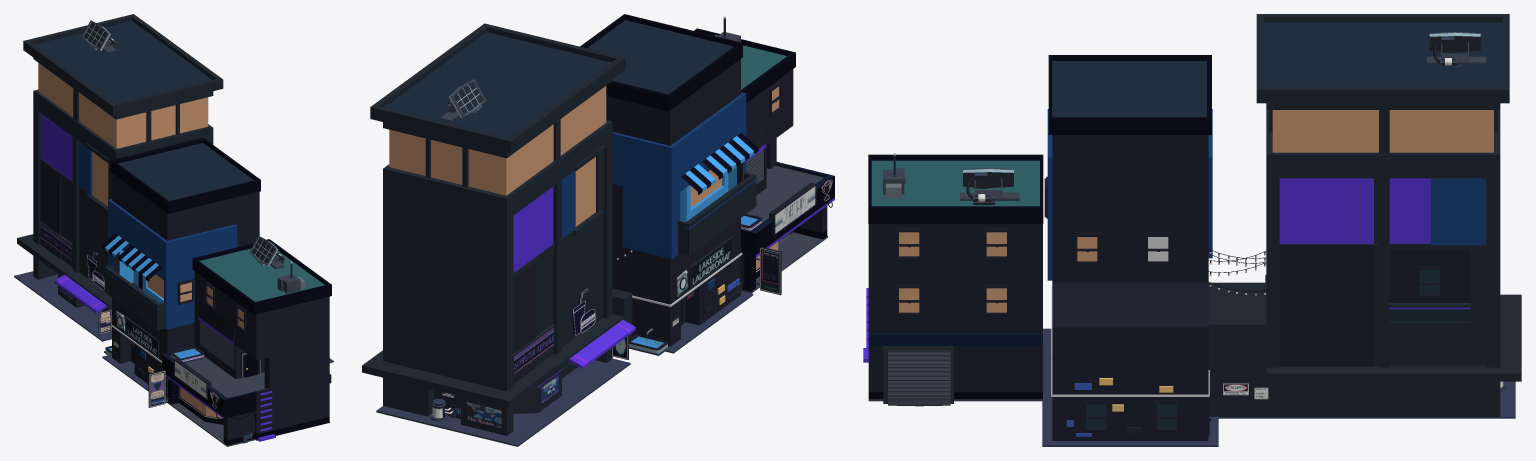
The model's file is LaundromatStreet.fbx.
3 renders of one model, left to right at view 1: azimuth 30°, elevation 25°; view 2: azimuth 150°, elevation 25°; view 3: azimuth 270°, elevation 25°, orthographic. The views are drawn at different scales.
Parts seen in each view (by area): view 1: Cube.076, Cube.813, Cube.404, Apartment 04.002, Cube.052, Solar Panel.002, Solar Panel.003, Cube.058, Cube.053, Cube.062, Cube.055, Text.032; view 2: Cube.076, Cube.813, Cube.404, Cube.052, Solar Panel.003, Cube.058, Cube.062, Cube.053, Cube.1084, Cube.1088, Text.032, Cylinder.021; view 3: Cube.076, Cube.813, Cube.404, Solar Panel.002, Solar Panel.003.
Part boxes in pixels (x1,y1,x2,y2): Cube.076: [14, 14, 223, 341]; Cube.813: [101, 137, 333, 402]; Cube.404: [162, 239, 331, 446]; Apartment 04.002: [200, 321, 234, 368]; Cube.052: [174, 358, 211, 399]; Solar Panel.002: [249, 236, 284, 268]; Solar Panel.003: [81, 20, 117, 52]; Cube.058: [125, 317, 159, 357]; Cube.053: [148, 370, 170, 407]; Cube.062: [39, 221, 72, 261]; Cube.055: [170, 346, 205, 363]; Text.032: [88, 251, 104, 289]; Cube.076: [362, 23, 635, 446]; Cube.813: [580, 14, 758, 353]; Cube.404: [694, 16, 834, 293]; Cube.052: [769, 182, 816, 235]; Solar Panel.003: [440, 79, 486, 121]; Cube.058: [689, 236, 732, 288]; Cube.062: [513, 324, 555, 376]; Cube.053: [754, 246, 781, 295]; Cube.1084: [466, 400, 502, 429]; Cube.1088: [629, 327, 669, 355]; Text.032: [571, 288, 594, 335]; Cylinder.021: [430, 398, 460, 421]; Cube.076: [1208, 14, 1521, 418]; Cube.813: [1042, 55, 1218, 446]; Cube.404: [863, 153, 1043, 406]; Solar Panel.002: [960, 168, 1019, 204]; Solar Panel.003: [1426, 31, 1486, 66].
Size of the model in its own units: 1204 by 1547 by 2585.
